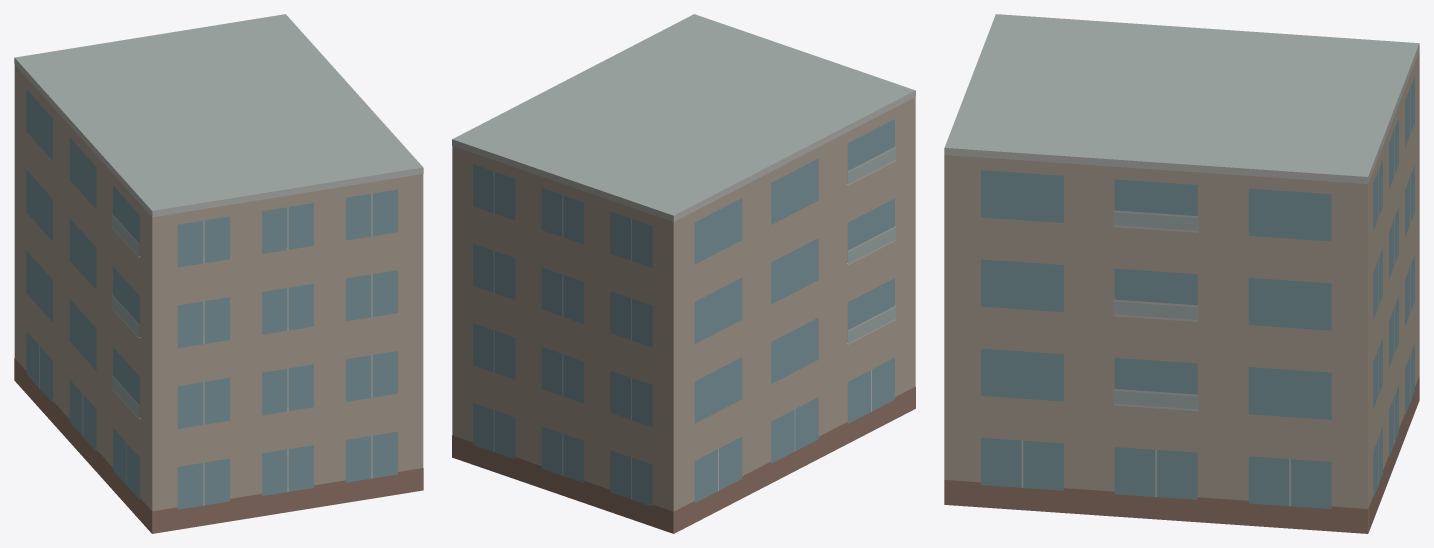
Rendered from residential-62a81ee5-7f3a-44c9-bbbf-659af2a705c4.glb.
3 renders of one model, left to right at view 1: azimuth 30°, elevation 25°; view 2: azimuth 150°, elevation 25°; view 3: azimuth 270°, elevation 25°, orthographic. The views are drawn at different scales.
Visible parts, largest first — view 1: residential-62a81ee5-7f3a-44c9-bbbf-659af2a705c4.tmp; view 2: residential-62a81ee5-7f3a-44c9-bbbf-659af2a705c4.tmp; view 3: residential-62a81ee5-7f3a-44c9-bbbf-659af2a705c4.tmp.
Part boxes in pixels (bbox=[...]): residential-62a81ee5-7f3a-44c9-bbbf-659af2a705c4.tmp: bbox=[14, 14, 423, 533]; residential-62a81ee5-7f3a-44c9-bbbf-659af2a705c4.tmp: bbox=[452, 14, 915, 533]; residential-62a81ee5-7f3a-44c9-bbbf-659af2a705c4.tmp: bbox=[944, 14, 1419, 533].
Bounding box in the file's own units: 11.95 × 12.2 × 14.73.
